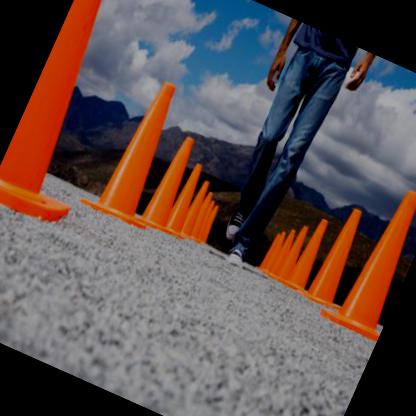cone: (0, 0, 179, 233), (322, 177, 415, 342), (95, 76, 191, 223), (303, 200, 374, 308), (135, 128, 208, 233), (283, 212, 337, 294), (161, 160, 210, 236), (276, 223, 312, 283)
